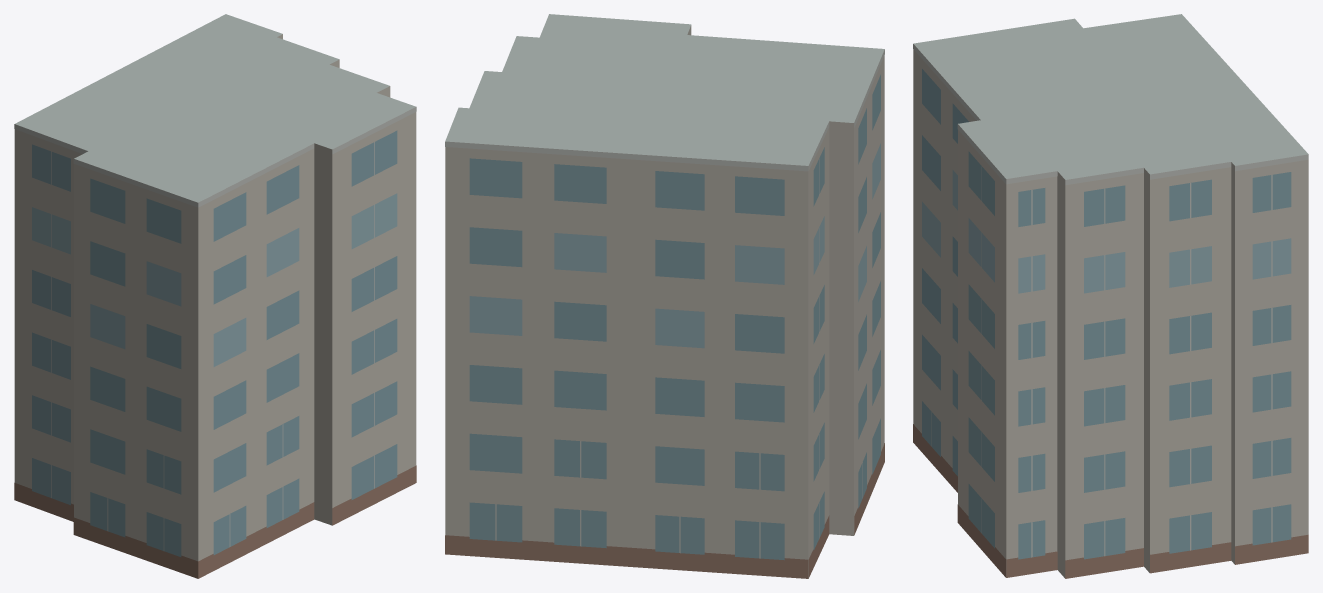
File: survey-upis-32580548.glb
The picture shows the model from 3 angles, left to right: view 1: azimuth 30°, elevation 25°; view 2: azimuth 150°, elevation 25°; view 3: azimuth 270°, elevation 25°; orthographic projection. The views are drawn at different scales.
Parts seen in each view (by area): view 1: survey-upis-32580548.tmp; view 2: survey-upis-32580548.tmp; view 3: survey-upis-32580548.tmp.
Boxes of the visible parts, box(x1,y1,x2,y2) form: survey-upis-32580548.tmp: box(14, 14, 416, 578); survey-upis-32580548.tmp: box(445, 14, 884, 578); survey-upis-32580548.tmp: box(913, 14, 1308, 578).
Size of the model in its own units: 16.43 by 18.4 by 16.55.
